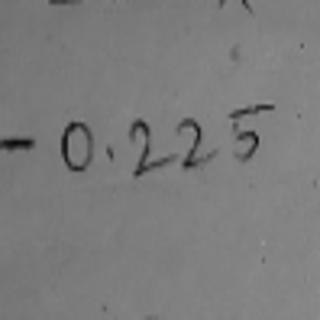.: (100, 143, 119, 165)
0: (60, 120, 92, 172)
2: (172, 114, 218, 171), (128, 117, 173, 174)
5: (229, 102, 272, 167)
